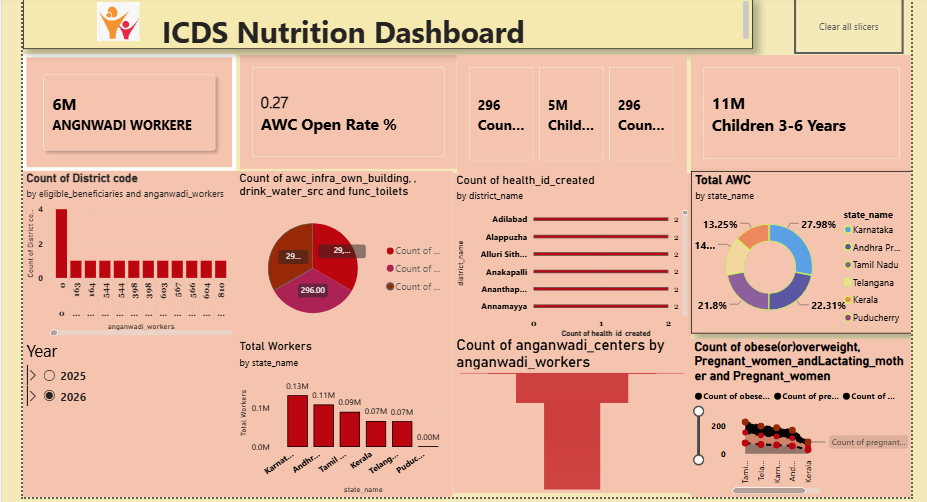

This screenshot's page, from the dashboard's own definition file:
{"tool":"powerbi","page":{"name":"Page 1","canvas":[1280,720],"ordinal":0},"visuals":[{"type":"cardVisual","fields":{"Data":["state_csv.ANGNWADI  WORKERE"]},"box":[0,82.1,306.7,168.5],"z":0},{"type":"cardVisual","fields":{"Data":["health.AWC Open Rate %"]},"box":[312.5,83.5,312.5,164.2],"z":1000},{"type":"textbox","box":[0,0,1051.2,74.9],"z":2000},{"type":"cardVisual","fields":{"Data":["CountNonNull(health.children_0_6_months)","health.Children 0-2 Years","CountNonNull(health.children_6_months_3_years)"]},"box":[625,83.5,331.2,169.9],"z":3000},{"type":"cardVisual","fields":{"Data":["health.Children 3-6 Years"]},"box":[961.9,83.5,318.2,167],"z":4000},{"type":"image","box":[54.7,7.2,165.6,56.2],"z":5000},{"type":"actionButton","box":[1110.3,0,157.9,82.3],"z":6000},{"type":"clusteredColumnChart","fields":{"Y":["ang1.Total Workers"],"Category":["state_csv.state_name"]},"box":[306.7,492.5,312.5,227.5],"z":7000},{"type":"barChart","fields":{"Category":["state_csv.district_name"],"Y":["CountNonNull(health.health_id_created)"]},"box":[619.4,252.8,343.1,241.7],"z":8000},{"type":"donutChart","fields":{"Category":["state_csv.state_name"],"Y":["health.Total AWC"]},"box":[961.9,250.6,319,234],"z":9000},{"type":"listSlicer","fields":{"Values":["state_csv.date.Variation.Date Hierarchy.Year","state_csv.state_name","state_csv.sector","state_csv.project"]},"box":[0,492.5,306.7,227.5],"z":10000},{"type":"clusteredColumnChart","fields":{"Category":["ang1.eligible_beneficiaries","ang1.anganwadi_workers"],"Y":["CountNonNull(ang1.District code)"]},"box":[0,250.6,306.7,241.9],"z":11000},{"type":"pieChart","title":"Count of awc_infra_own_building, , drink_water_src and func_toilets","fields":{"Y":["CountNonNull(health.awc_infra_own_building)","CountNonNull(health.awc_infra_drink_water_src)","CountNonNull(health.awc_infra_func_toilets)"]},"box":[306.7,250.6,312.5,241.9],"z":12000},{"type":"funnel","fields":{"Category":["ang1.anganwadi_workers","ang1.anganwadi_helpers"],"Y":["CountNonNull(ang1.anganwadi_centers)"]},"box":[619.4,487.5,343.1,226.4],"z":13000},{"type":"stackedAreaChart","title":"Count of obese(or)overweight, Pregnant_women_andLactating_mother and Pregnant_women","fields":{"Category":["health.state_name"],"Y":["CountNonNull(health.obese_or_overweight)","CountNonNull(health.pregnant_women_and_lactating_mother)","CountNonNull(health.pregnant_women)"]},"box":[961.9,492.5,318.2,227.5],"z":14000}]}

Visuals, with their boxes on the page's 1280x720 design canvas (x1, y1, x2, y2). These are canvas units, not pixel positions in the 927x502 screenshot, which may show the page scaled, cropped or inside an application window:
cardVisual - state_csv.ANGNWADI  WORKERE: region(0, 82, 307, 251)
cardVisual - health.AWC Open Rate %: region(312, 84, 625, 248)
textbox: region(0, 0, 1051, 75)
cardVisual - CountNonNull(health.children_0_6_months) x health.Children 0-2 Years: region(625, 84, 956, 253)
cardVisual - health.Children 3-6 Years: region(962, 84, 1280, 250)
image: region(55, 7, 220, 63)
actionButton: region(1110, 0, 1268, 82)
clusteredColumnChart - ang1.Total Workers x state_csv.state_name: region(307, 492, 619, 720)
barChart - state_csv.district_name x CountNonNull(health.health_id_created): region(619, 253, 962, 494)
donutChart - state_csv.state_name x health.Total AWC: region(962, 251, 1281, 485)
listSlicer - state_csv.date.Variation.Date Hierarchy.Year x state_csv.state_name: region(0, 492, 307, 720)
clusteredColumnChart - ang1.eligible_beneficiaries x ang1.anganwadi_workers: region(0, 251, 307, 492)
"Count of awc_infra_own_building, , drink_water_src and func_toilets" pieChart: region(307, 251, 619, 492)
funnel - ang1.anganwadi_workers x ang1.anganwadi_helpers: region(619, 488, 962, 714)
"Count of obese(or)overweight, Pregnant_women_andLactating_mother and Pregnant_women" stackedAreaChart: region(962, 492, 1280, 720)
